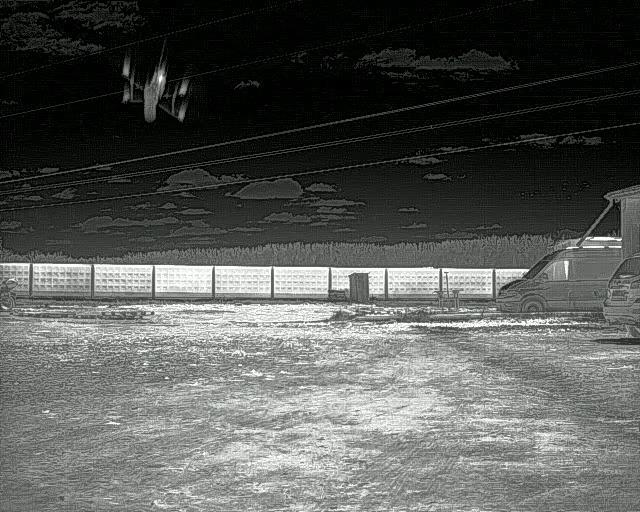drone-thermal: (114, 49, 194, 127)
